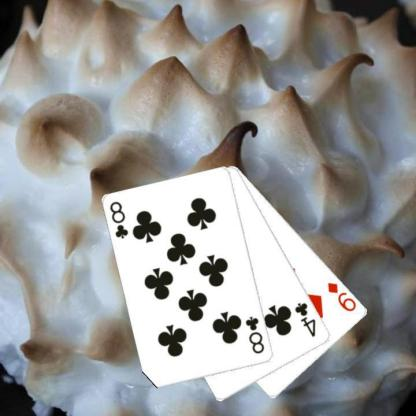4C: (292, 300, 317, 338)
8C: (243, 314, 266, 355), (107, 199, 130, 240)
9D: (326, 280, 358, 313)
